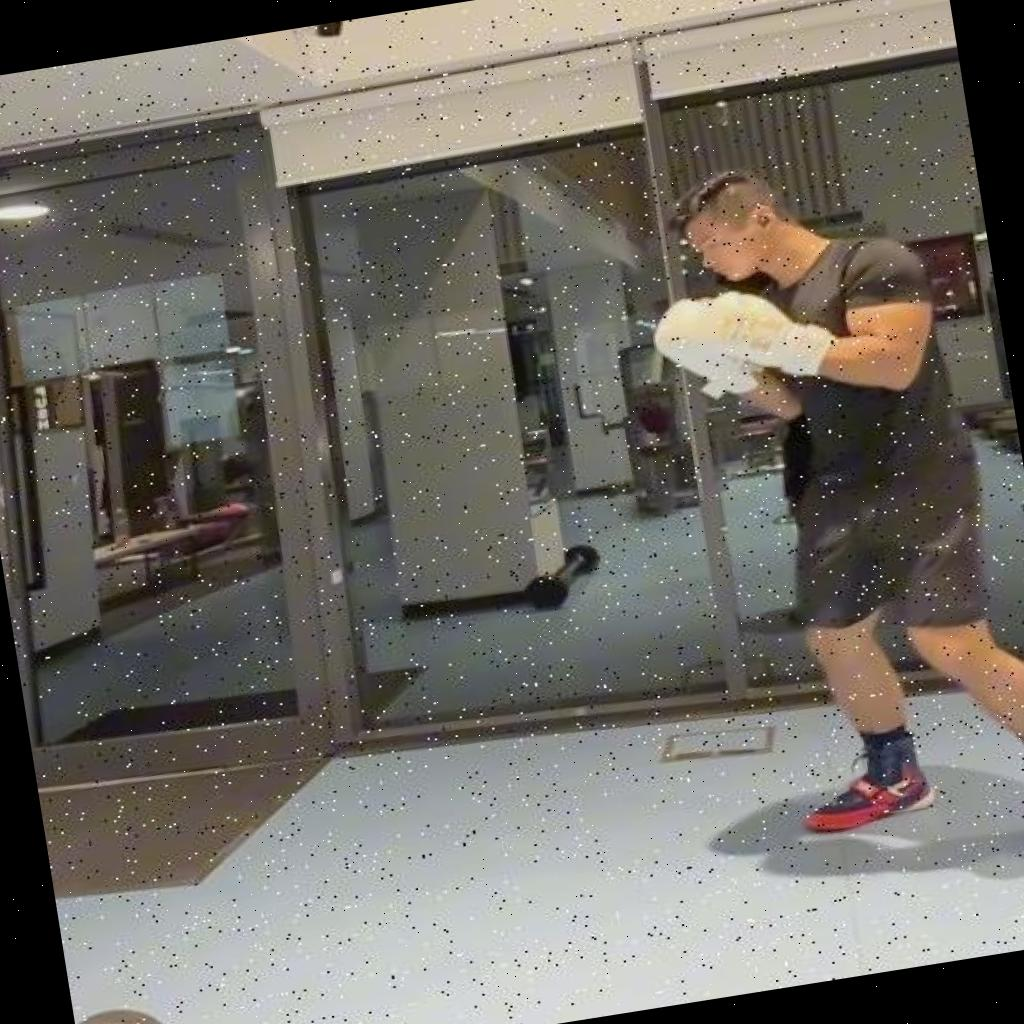no punch: (622, 124, 1024, 922)
